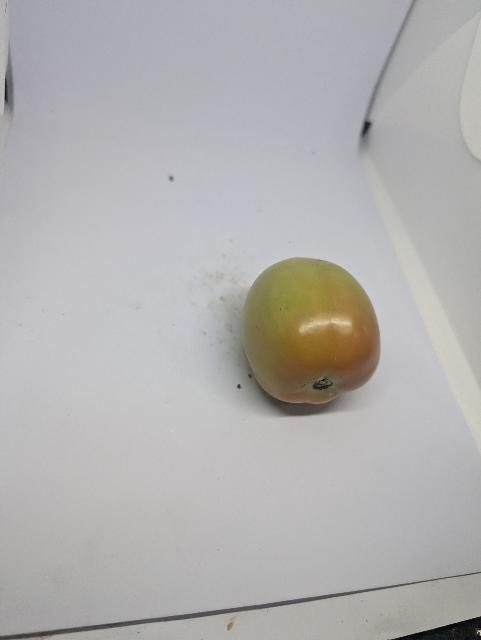breaker: (242, 258, 381, 404)
